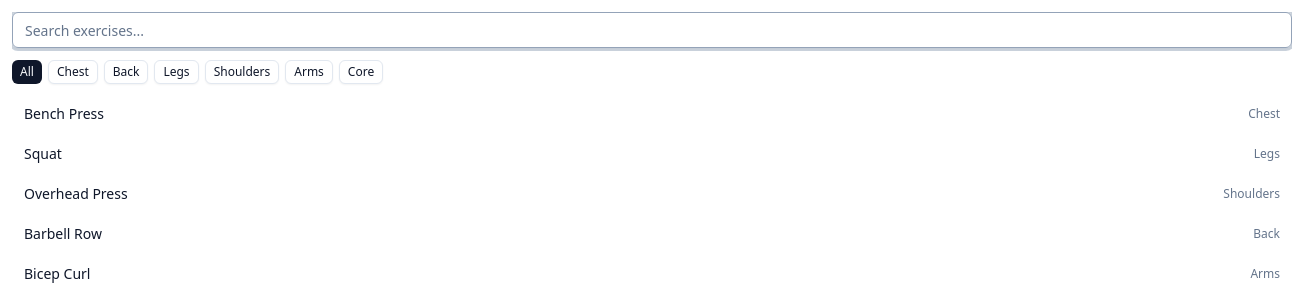
it: ExercisePicker › filters exercises by muscle group
Expected: the text "Bench Press" is shown, [24,104,104,124]
Click the button "Chest" at (73,72), box [48,60,98,84]
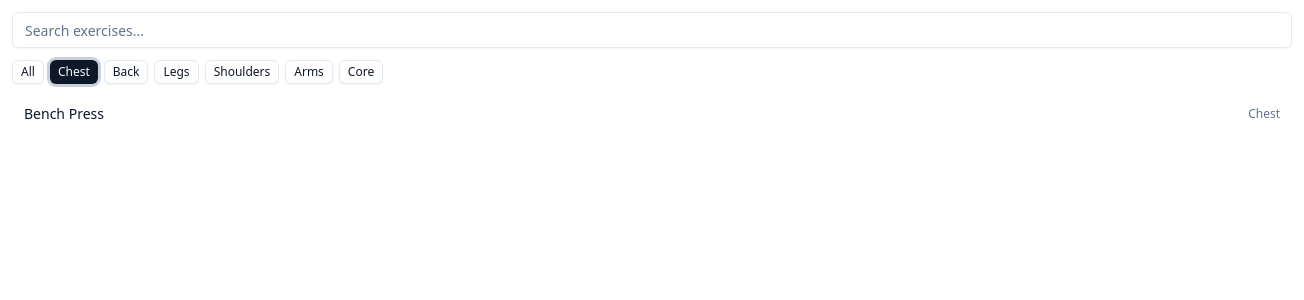
Expected: the text "Bench Press" is shown, [24,104,104,124]
Expected: the button "Squat" is gone
Expected: the button "Barbell Row" is gone
